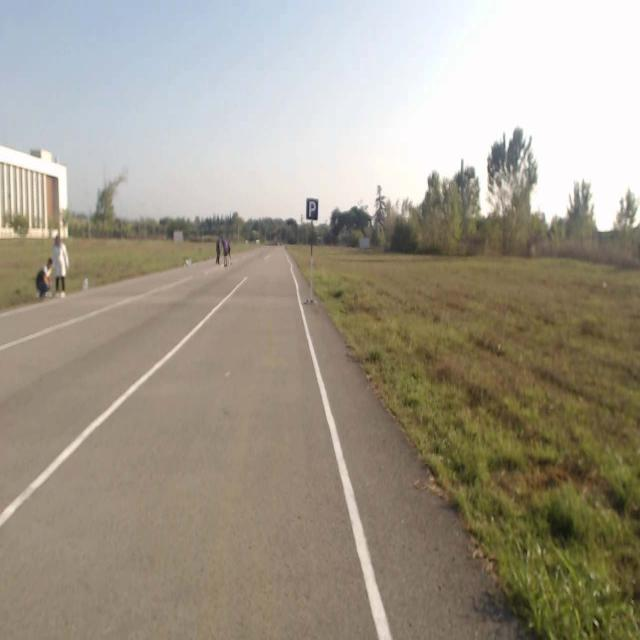park: (306, 197, 318, 220)
